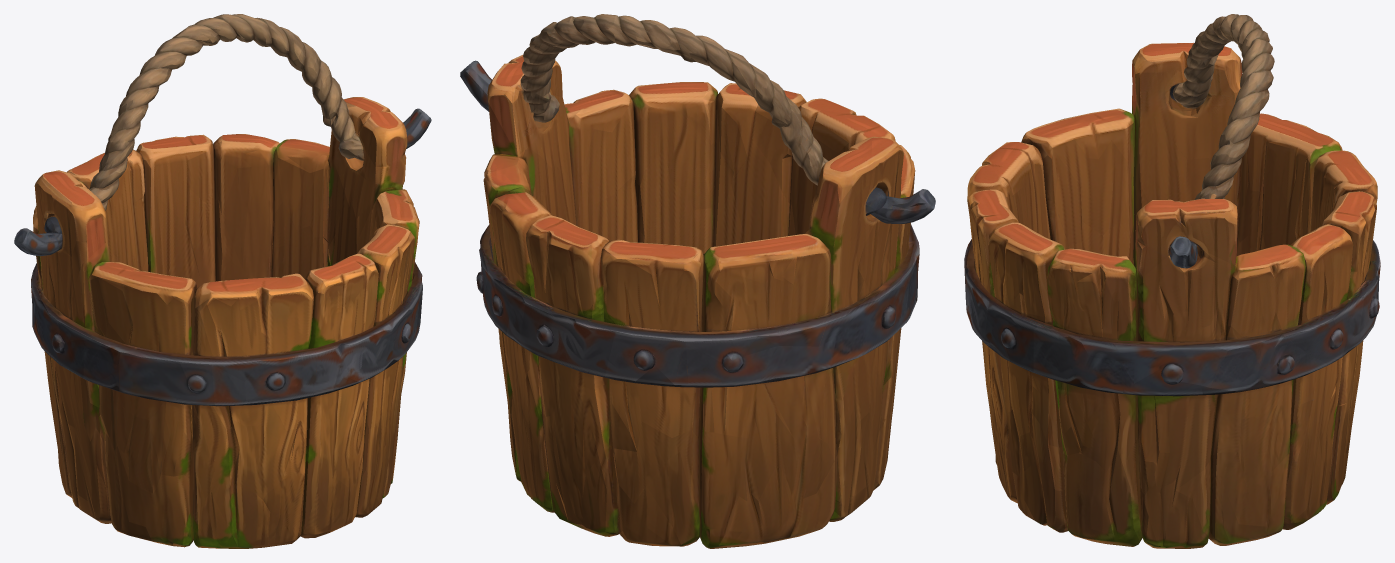
File: bucket_v2.glb
The picture shows the model from 3 angles, left to right: view 1: azimuth 30°, elevation 25°; view 2: azimuth 150°, elevation 25°; view 3: azimuth 270°, elevation 25°; orthographic projection. The views are drawn at different scales.
Size of the model in its own units: 1.9 by 1.87 by 1.54.
Materials: 1 (1 with a texture image).
